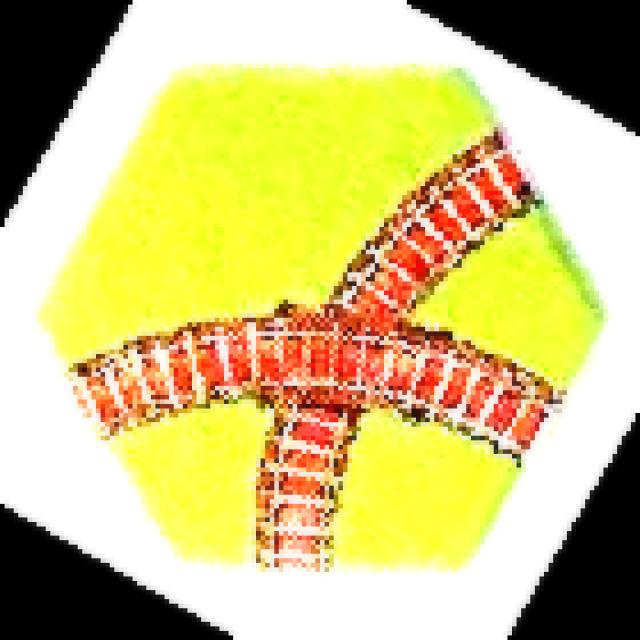7_1: (37, 59, 612, 581)
